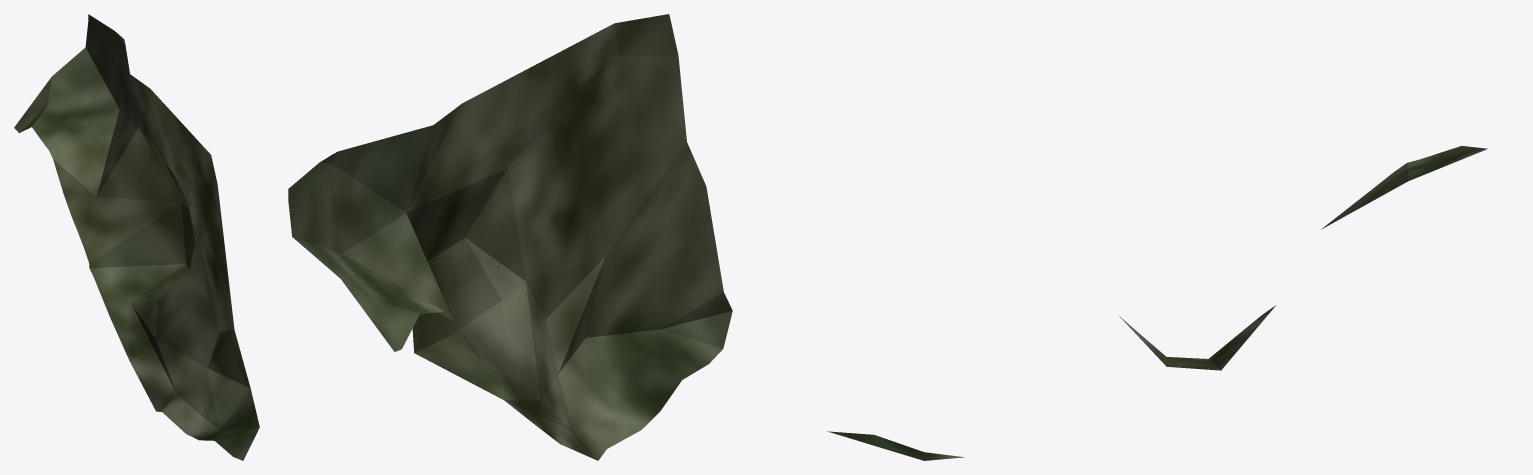
3 views of the same model, side by side, from view 1: azimuth 30°, elevation 25°; view 2: azimuth 150°, elevation 25°; view 3: azimuth 270°, elevation 25° (orthographic). The views are drawn at different scales.
Bounding box in the file's own units: 0.2339 × 0.7809 × 1.21.
Materials: 1 (1 with a texture image).
